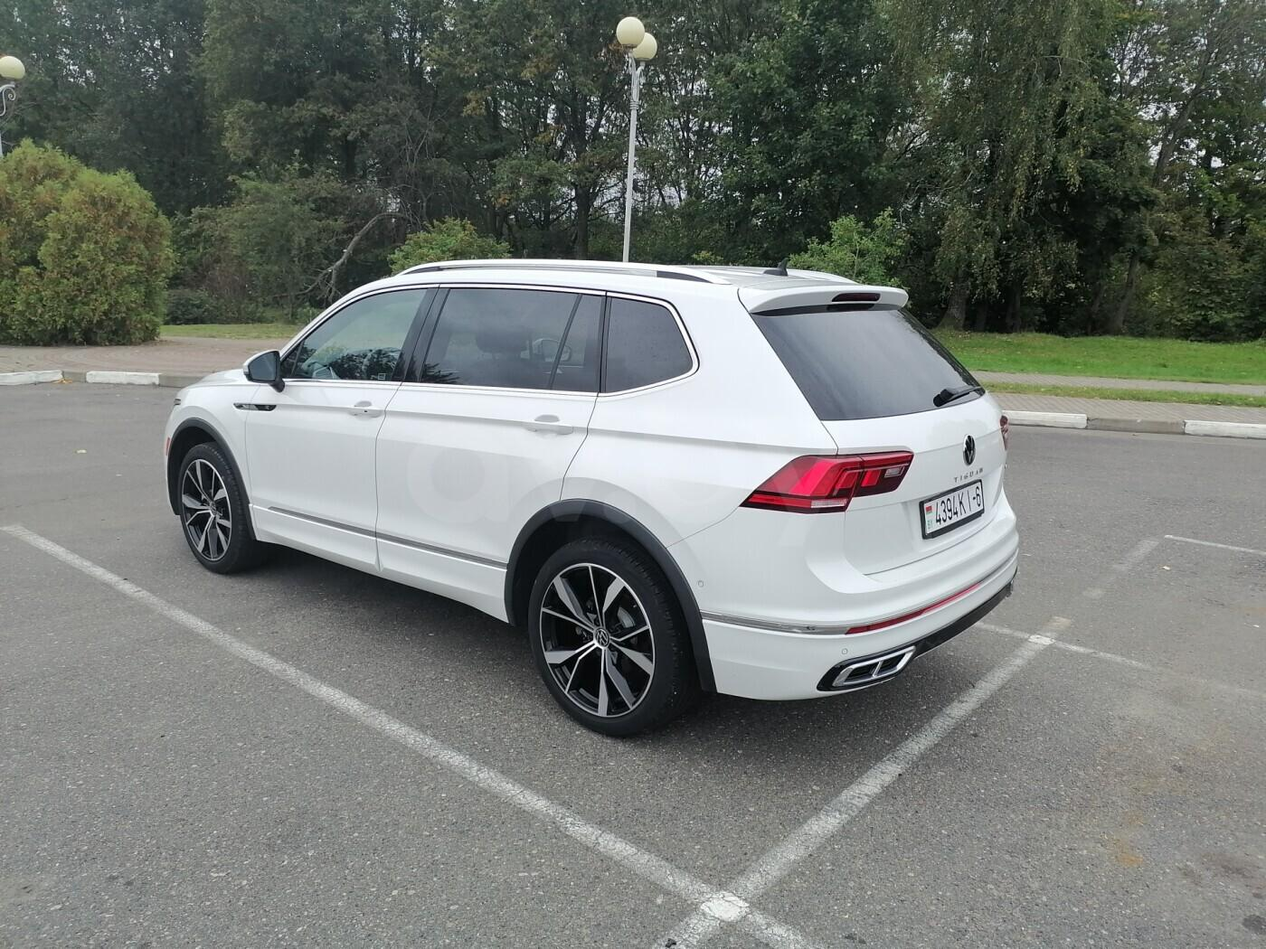Tiguan_2020-2024: (159, 254, 1021, 732)
